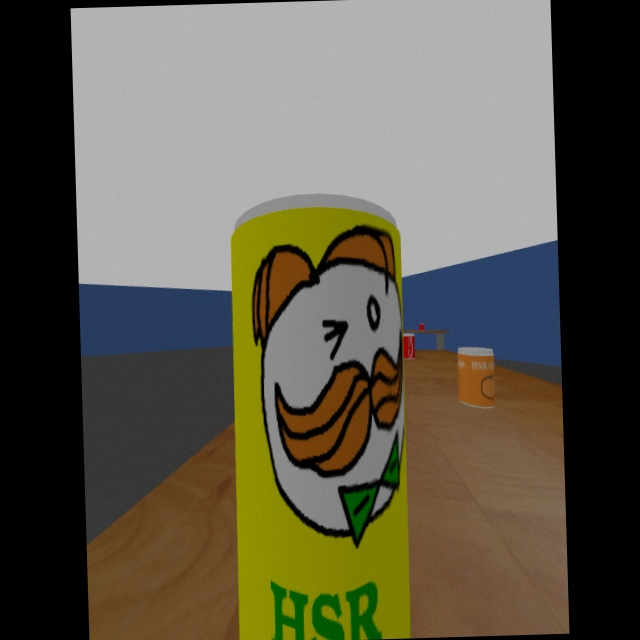chipsdose_gelb: (230, 192, 412, 640)
